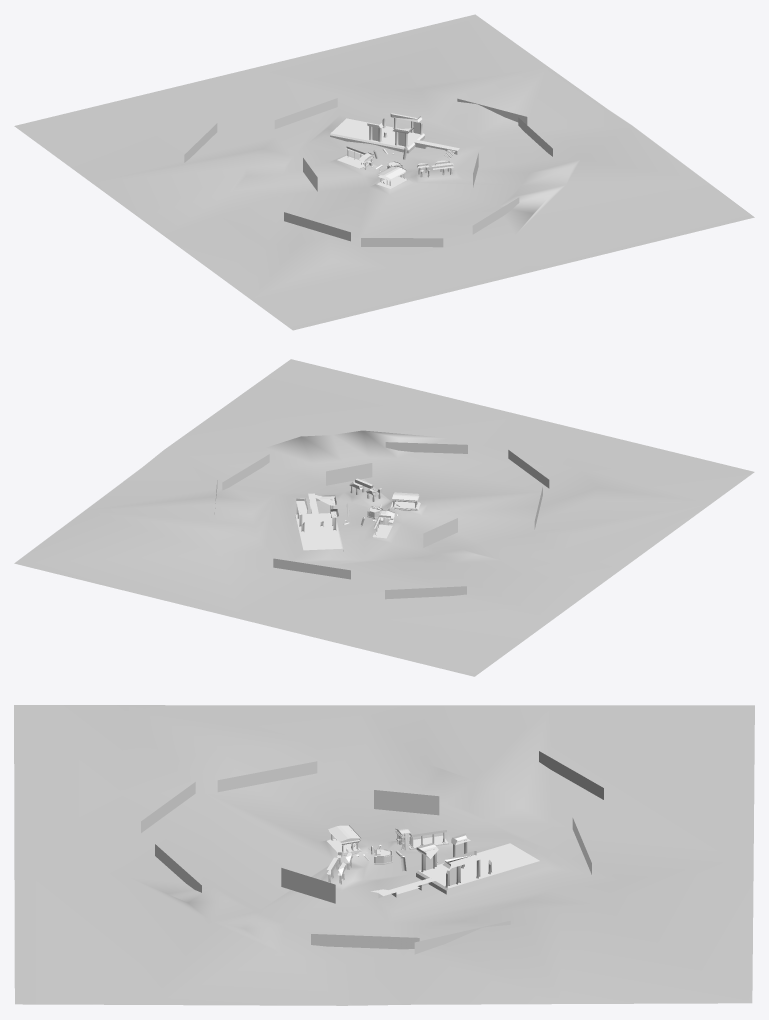
Rendered from Red Hot Shrine Day.glb.
The picture shows the model from 3 angles, top to bottom: view 1: azimuth 30°, elevation 25°; view 2: azimuth 150°, elevation 25°; view 3: azimuth 270°, elevation 25°; orthographic projection. The views are drawn at different scales.
Parts seen in each view (by area): view 1: object_16, object_14, object_5, object_8, object_15; view 2: object_16, object_14, object_5, object_8; view 3: object_16, object_14, object_5, object_15, object_8, object_17, object_2, object_9.
Boxes of the visible parts, x1,y1,x2,y2 form: object_16: [14, 14, 754, 330]; object_14: [184, 98, 552, 247]; object_5: [330, 118, 424, 188]; object_8: [337, 113, 451, 185]; object_15: [284, 212, 350, 241]; object_16: [14, 359, 754, 676]; object_14: [214, 442, 549, 599]; object_5: [295, 501, 420, 551]; object_8: [296, 486, 419, 538]; object_16: [14, 705, 754, 1005]; object_14: [141, 751, 603, 954]; object_5: [327, 839, 539, 894]; object_15: [217, 761, 317, 792]; object_8: [328, 828, 485, 875]; object_17: [331, 834, 491, 887]; object_2: [328, 825, 448, 890]; object_9: [328, 832, 444, 884].
Size of the model in its own units: 1741 by 89.71 by 1813.
Materials: 11 (1 with a texture image).
